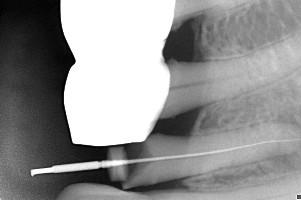Furcation Involvement: (265, 149, 301, 172), (274, 105, 301, 126)
